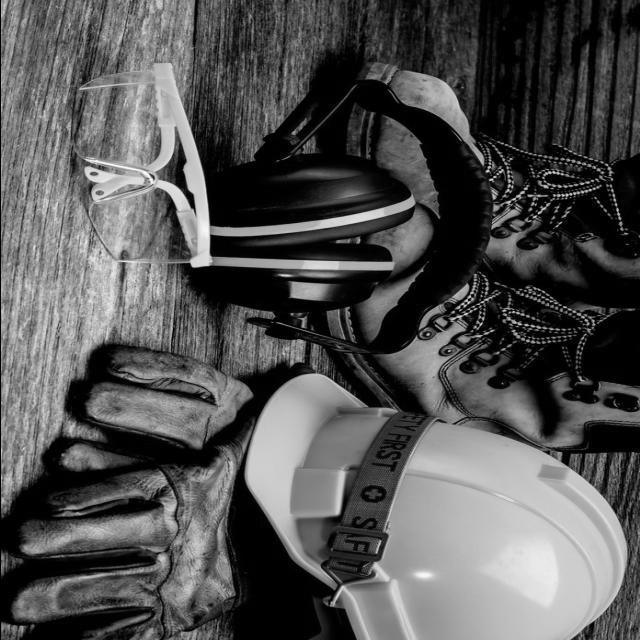safety_helmet: (238, 371, 627, 640)
